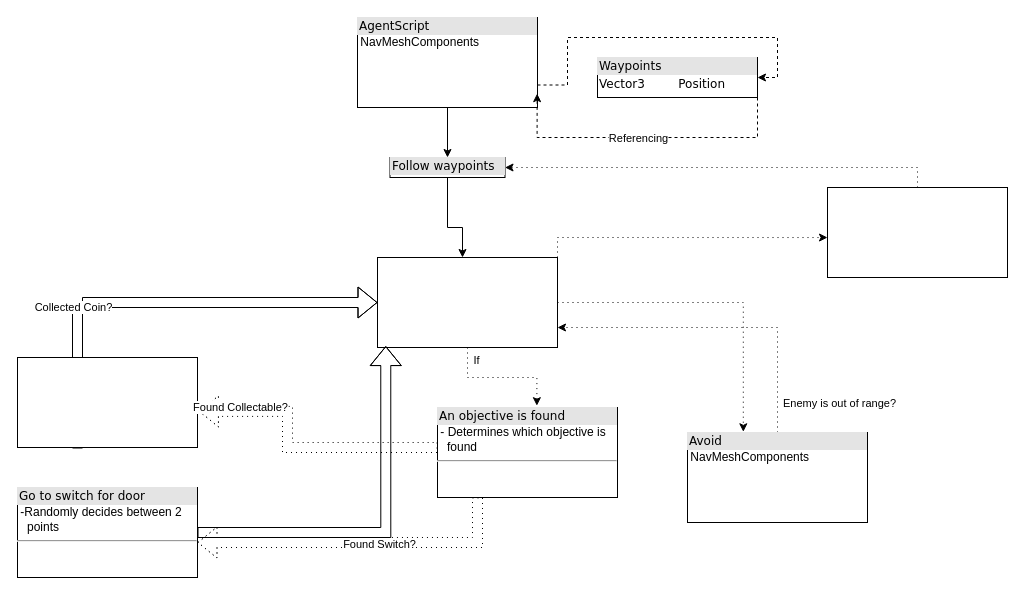
Some shapes in this 1025 by 595 pixel diagram are drawn without their labels. Here are the shapes that lost their labels. From the top down, the centre of each, then its label:
the point at 917,232: Can't proceed to goal - Goes back to the first index of waypoints
the point at 467,302: Proceed to goal Follows the waypoints
the point at 107,402: Go to Collectable NavMeshComponents
